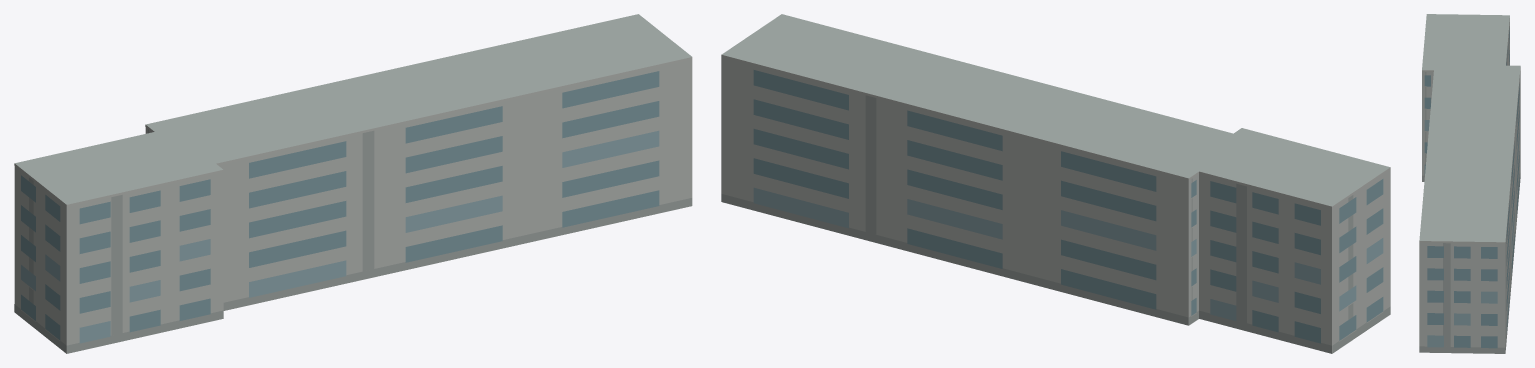
File: residential-ca7c8d54-40d6-4862-9b46-9e9fd140d5aa.glb
The picture shows the model from 3 angles, left to right: view 1: azimuth 30°, elevation 25°; view 2: azimuth 150°, elevation 25°; view 3: azimuth 270°, elevation 25°; orthographic projection. The views are drawn at different scales.
Visible parts, largest first — view 1: residential-ca7c8d54-40d6-4862-9b46-9e9fd140d5aa.tmp; view 2: residential-ca7c8d54-40d6-4862-9b46-9e9fd140d5aa.tmp; view 3: residential-ca7c8d54-40d6-4862-9b46-9e9fd140d5aa.tmp.
Boxes of the visible parts, box(x1,y1,x2,y2) form: residential-ca7c8d54-40d6-4862-9b46-9e9fd140d5aa.tmp: box(14, 14, 692, 353); residential-ca7c8d54-40d6-4862-9b46-9e9fd140d5aa.tmp: box(721, 14, 1390, 353); residential-ca7c8d54-40d6-4862-9b46-9e9fd140d5aa.tmp: box(1419, 14, 1520, 353).
Size of the model in its own units: 66.87 by 15.25 by 12.54.
